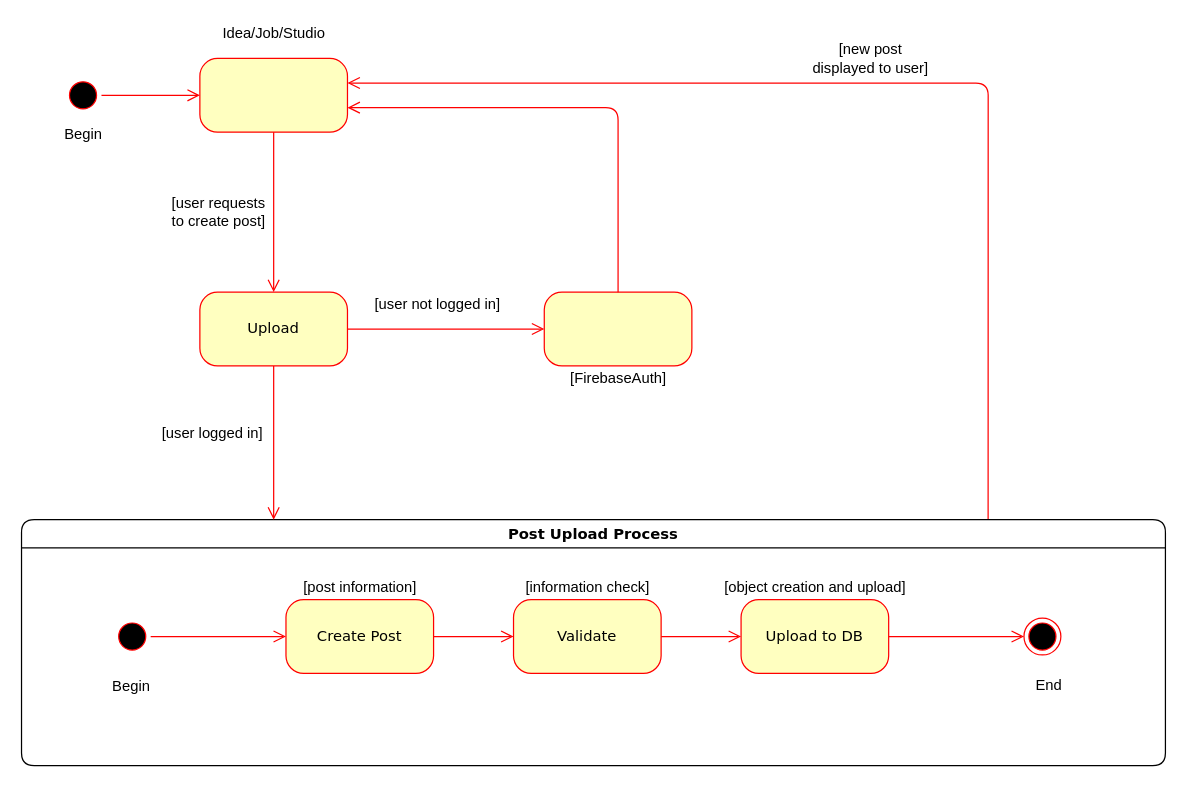
The diagram is 1187 pixels wide and 787 high, and some of its shapes have lost their labels. Here are the shapes that lost their labels. From the top down, the box of each, then its label:
(199, 57, 347, 132): Post Browse
(543, 291, 692, 366): User Login/Registration
